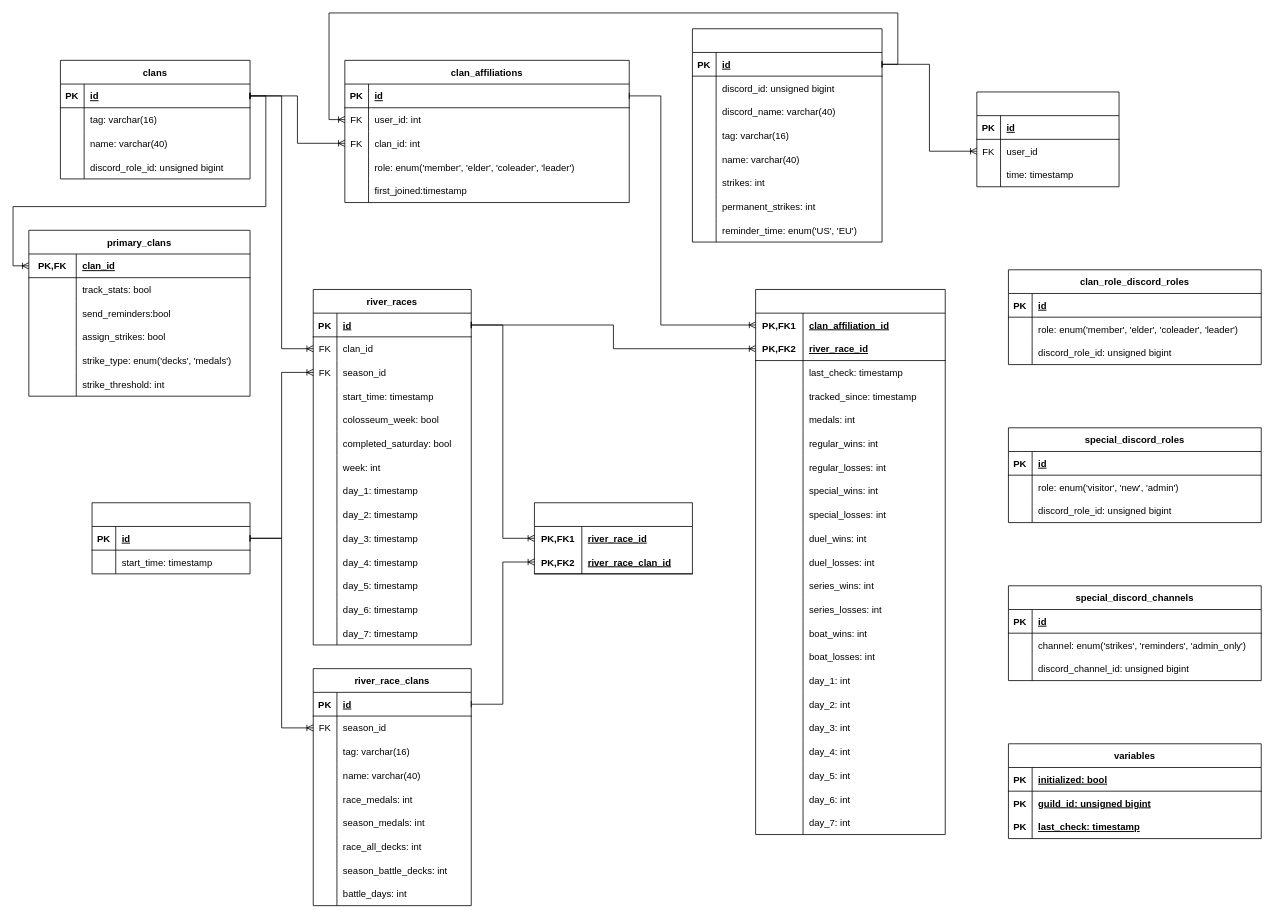
Image size: 1274x919. Some labels were removed from this diagram. Each missing label, with the box of its shape:
clans_in_race: (534, 502, 692, 574)
kicks: (976, 91, 1119, 187)
river_race_user_data: (755, 289, 945, 835)
seasons: (91, 502, 250, 574)
users: (692, 28, 882, 242)
